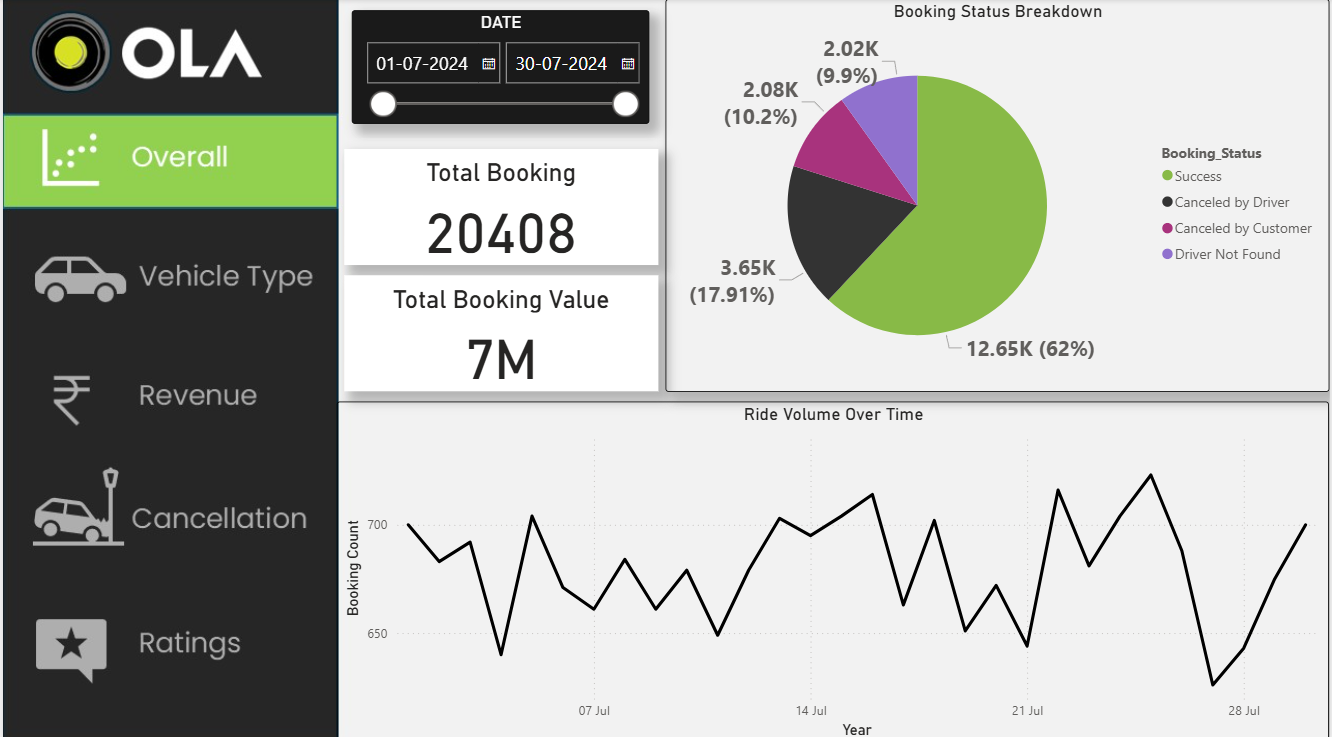

Layout of this report page (visuals, bound fields, positions):
{"tool":"powerbi","page":{"name":"Overall","canvas":[1280,720],"ordinal":0},"visuals":[{"type":"actionButton","box":[0,235.3,322.1,79.6],"z":0},{"type":"lineChart","title":"Ride Volume Over Time","fields":{"Y":["CountNonNull(July.Booking_ID)"],"Category":["July.Date.Variation.Date Hierarchy.Year","July.Date.Variation.Date Hierarchy.Quarter","July.Date.Variation.Date Hierarchy.Month","July.Date.Variation.Date Hierarchy.Day"]},"box":[322.1,388.5,957.9,331.8],"z":1000},{"type":"pieChart","title":"Booking Status Breakdown","fields":{"Category":["July.Booking_Status"],"Y":["CountNonNull(July.Booking_Status)"]},"box":[639.4,0,640.6,378.8],"z":2000},{"type":"slicer","title":"DATE","fields":{"Values":["July.Date"]},"box":[336.6,10.9,287.1,109.8],"z":3000},{"type":"card","title":"Total Booking","fields":{"Values":["Count(July.Booking_ID)"]},"box":[329.4,144.8,302.8,112.2],"z":4000},{"type":"card","title":"Total Booking Value","fields":{"Values":["Sum(July.Booking_Value)"]},"box":[329.4,266.6,302.8,112.2],"z":5000}]}

Visuals, with their boxes in screenshot pixels (x1, y1, x2, y2), scaled from the page's 1280x720 canvas onto the 1332x737 screenshot:
actionButton: {"x1": 0, "y1": 241, "x2": 335, "y2": 322}
"Ride Volume Over Time" lineChart: {"x1": 335, "y1": 398, "x2": 1331, "y2": 736}
"Booking Status Breakdown" pieChart: {"x1": 665, "y1": 0, "x2": 1331, "y2": 388}
"DATE" slicer: {"x1": 350, "y1": 11, "x2": 649, "y2": 124}
"Total Booking" card: {"x1": 343, "y1": 148, "x2": 658, "y2": 263}
"Total Booking Value" card: {"x1": 343, "y1": 273, "x2": 658, "y2": 388}
